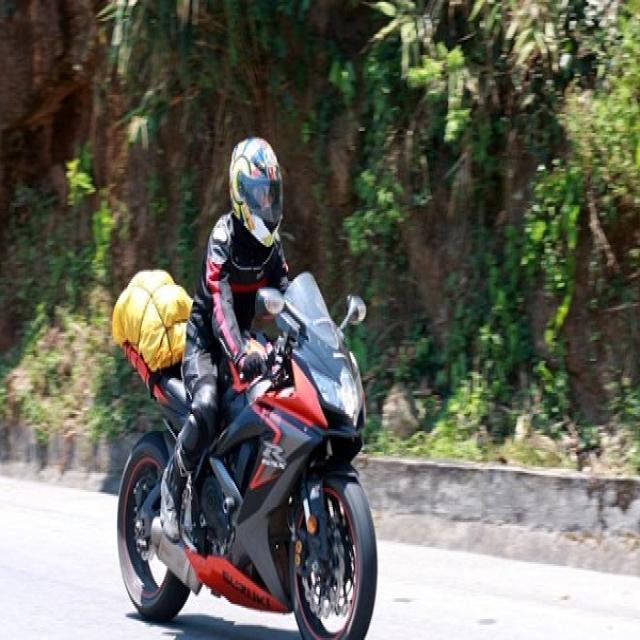Full-face-helmet: (227, 133, 285, 252)
